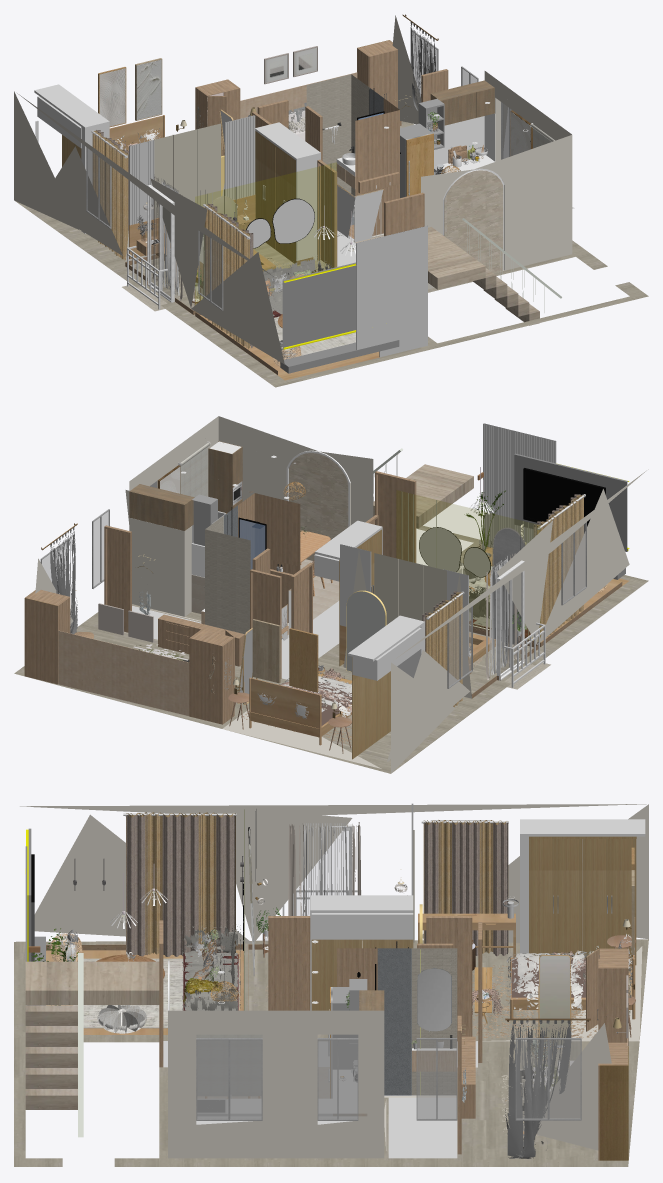
The model's file is burgos-floor-3.glb.
3 renders of one model, top to bottom at view 1: azimuth 30°, elevation 25°; view 2: azimuth 150°, elevation 25°; view 3: azimuth 270°, elevation 25°, orthographic. The views are drawn at different scales.
Parts seen in each view (by area): view 1: 3DGeom-493.001, 3DGeom-485.002, 3DGeom-940.057, 3DGeom-1677.001, 3DGeom-52.006, 3DGeom-1711.001, 3DGeom-1244.001, 3DGeom-48.030, 3DGeom-497.001, 3DGeom-1704.001, 3DGeom-1680.001, 3DGeom-744.001 (+26 smaller); view 2: 3DGeom-493.001, 3DGeom-485.002, 3DGeom-1677.001, 3DGeom-52.006, 3DGeom-1711.001, 3DGeom-918.001, 3DGeom-940.057, 3DGeom-1680.001, 3DGeom-48.030, 3DGeom-113.002, 3DGeom-744.001, 3DGeom-497.001 (+28 smaller); view 3: 3DGeom-493.001, 3DGeom-1677.001, 3DGeom-744.001, 3DGeom-48.038, 3DGeom-485.002, 3DGeom-901.001, 3DGeom-52.006, 3DGeom-13480, 3DGeom-48.030, 3DGeom-435.001, 3DGeom-1683.001, 3DGeom-674.001 (+24 smaller).
Boxes of the visible parts, box(x1,y1,x2,y2) form: 3DGeom-493.001: box(14, 15, 572, 364); 3DGeom-485.002: box(136, 40, 448, 267); 3DGeom-940.057: box(129, 115, 427, 357); 3DGeom-1677.001: box(15, 121, 648, 387); 3DGeom-52.006: box(34, 84, 574, 309); 3DGeom-1711.001: box(195, 163, 336, 304); 3DGeom-1244.001: box(280, 262, 399, 373); 3DGeom-48.030: box(92, 130, 249, 349); 3DGeom-497.001: box(444, 170, 503, 273); 3DGeom-1704.001: box(154, 123, 220, 218); 3DGeom-1680.001: box(122, 74, 369, 311); 3DGeom-744.001: box(87, 32, 511, 308); 3DGeom-493.001: box(35, 416, 648, 773); 3DGeom-485.002: box(25, 471, 471, 724); 3DGeom-1677.001: box(14, 525, 648, 773); 3DGeom-52.006: box(132, 481, 585, 687); 3DGeom-1711.001: box(397, 491, 540, 637); 3DGeom-918.001: box(58, 611, 204, 715); 3DGeom-940.057: box(340, 423, 556, 656); 3DGeom-1680.001: box(205, 516, 550, 689); 3DGeom-48.030: box(425, 495, 583, 707); 3DGeom-113.002: box(249, 546, 629, 745); 3DGeom-744.001: box(42, 511, 585, 686); 3DGeom-497.001: box(289, 453, 348, 560); 3DGeom-493.001: box(20, 804, 648, 1158); 3DGeom-1677.001: box(14, 939, 648, 1166); 3DGeom-744.001: box(197, 1039, 580, 1119); 3DGeom-48.038: box(126, 815, 507, 956); 3DGeom-485.002: box(159, 916, 628, 1160); 3DGeom-901.001: box(311, 836, 636, 1010); 3DGeom-52.006: box(80, 813, 645, 1158); 3DGeom-13480: box(25, 961, 159, 1109); 3DGeom-48.030: box(126, 812, 508, 954); 3DGeom-435.001: box(505, 1019, 617, 1158); 3DGeom-1683.001: box(377, 948, 411, 1095); 3DGeom-674.001: box(196, 1034, 262, 1095).
Bounding box in the file's own units: 9.47 × 4.51 × 10.92.
296 materials, 186 textured.
